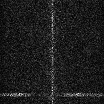wifi: (1, 92, 104, 96)
